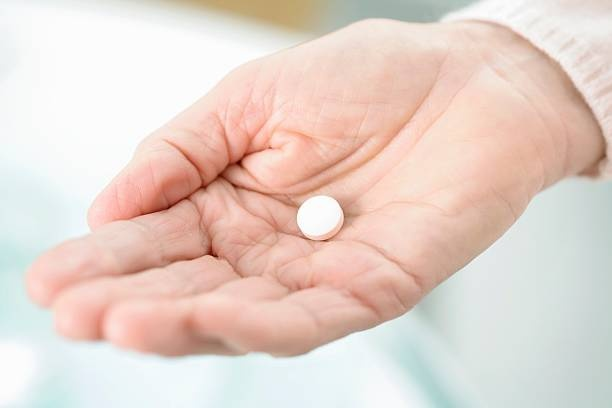pills: (298, 194, 346, 244)
